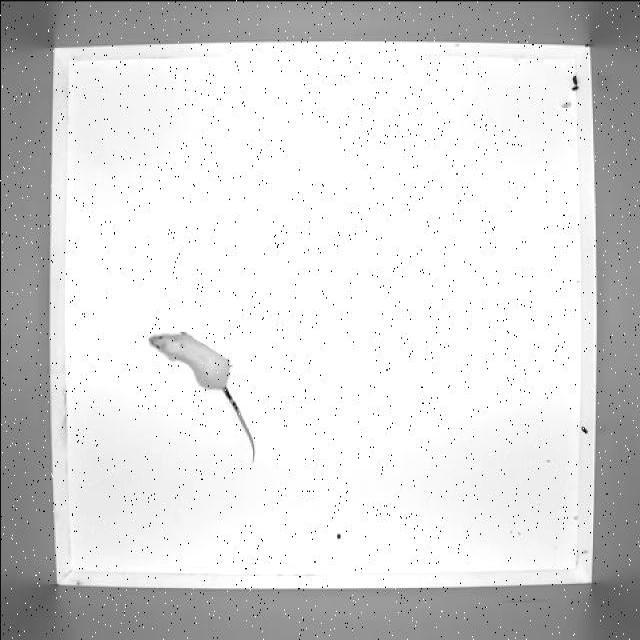rat: (145, 328, 259, 467)
